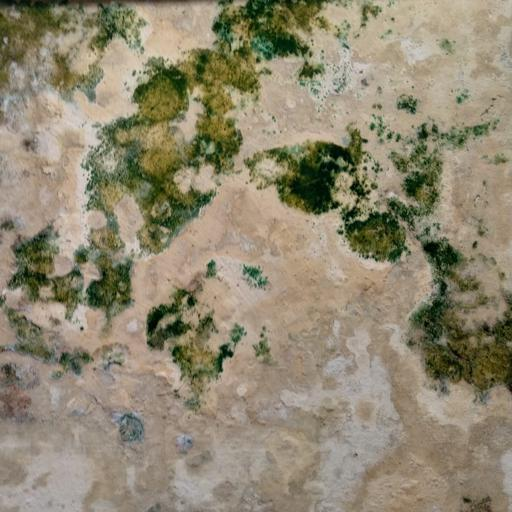algae: (4, 0, 511, 401)
